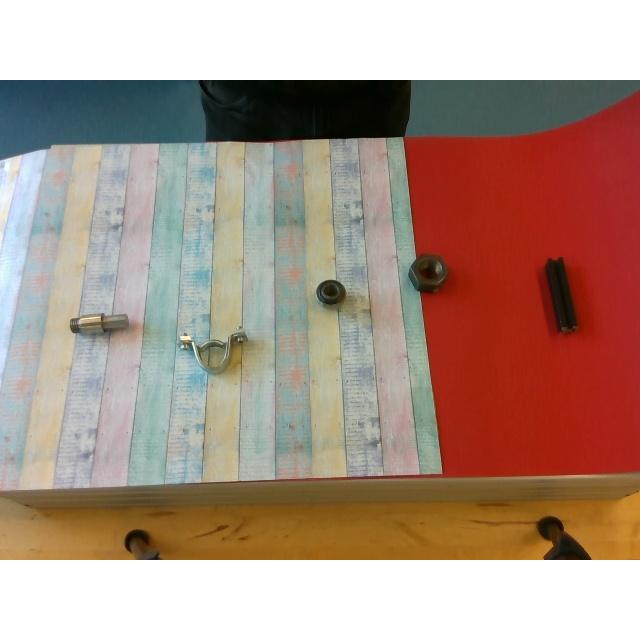Axis2: (68, 312, 128, 336)
Bearing2: (316, 280, 344, 304)
F20_20_B: (544, 258, 576, 329)
Housing: (176, 331, 246, 373)
M30: (408, 253, 448, 291)
